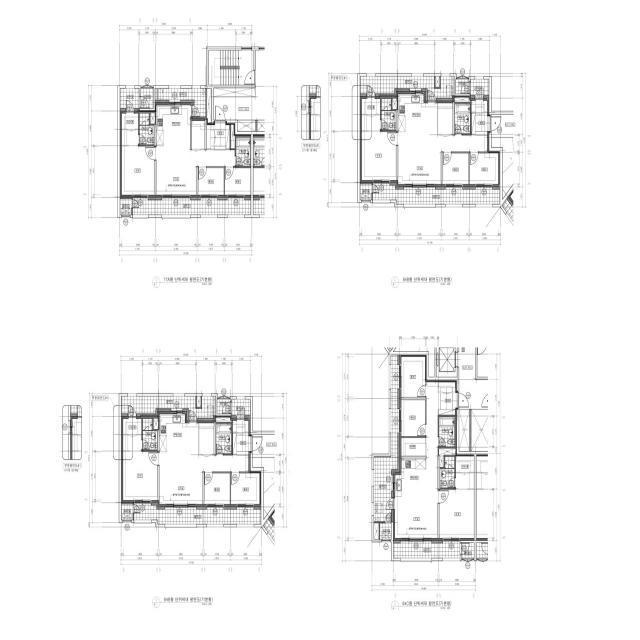space_balconi: (374, 355, 399, 522), (373, 183, 500, 204), (134, 503, 261, 524), (121, 396, 216, 421), (360, 76, 454, 101), (133, 198, 251, 215), (155, 89, 206, 117), (393, 541, 460, 558), (120, 88, 139, 111), (232, 399, 250, 418), (471, 79, 489, 98)
space_bedroom: (459, 347, 488, 409), (121, 451, 157, 500), (360, 131, 396, 180), (120, 146, 154, 197), (440, 490, 474, 541), (400, 355, 426, 397), (399, 400, 425, 436), (231, 473, 261, 504), (470, 153, 500, 184), (204, 473, 230, 504), (443, 153, 469, 184), (225, 168, 251, 197), (198, 168, 224, 197)
space_dressroom: (456, 454, 474, 490), (121, 419, 141, 450), (360, 99, 380, 130), (120, 111, 138, 145)
space_elevator_hall: (214, 97, 256, 120), (491, 114, 514, 137), (253, 434, 275, 457)
space_front: (207, 121, 230, 150), (438, 391, 458, 415), (233, 433, 252, 455), (471, 113, 490, 135)
space_kitchen: (159, 414, 198, 455), (398, 94, 437, 135), (156, 103, 190, 150), (393, 459, 426, 498)
space_living_room: (393, 380, 438, 541), (159, 455, 250, 504), (398, 135, 489, 184), (156, 150, 235, 197)
space_other: (471, 409, 488, 451), (438, 101, 453, 134), (199, 421, 214, 454), (190, 118, 205, 150), (400, 438, 425, 456), (459, 410, 469, 451), (214, 88, 255, 97), (439, 448, 456, 467), (141, 88, 153, 108), (439, 380, 457, 391), (237, 120, 255, 131), (456, 79, 469, 94), (217, 399, 230, 414), (233, 421, 250, 432), (472, 101, 489, 112), (462, 543, 474, 558), (207, 88, 211, 123), (231, 125, 235, 148), (216, 417, 232, 422), (374, 523, 379, 539), (455, 97, 470, 102), (150, 113, 155, 124), (392, 98, 397, 109), (197, 396, 201, 407), (436, 76, 440, 87), (154, 418, 158, 429)
space_outdoor_room: (360, 184, 372, 200), (380, 523, 391, 539), (122, 504, 133, 520), (120, 199, 131, 215)
space_staircase: (209, 50, 253, 85)
space_toilet: (216, 423, 232, 454), (439, 416, 455, 447), (139, 113, 154, 145), (381, 98, 396, 130), (440, 456, 455, 488), (455, 103, 470, 134), (143, 418, 157, 450), (236, 137, 251, 166)
